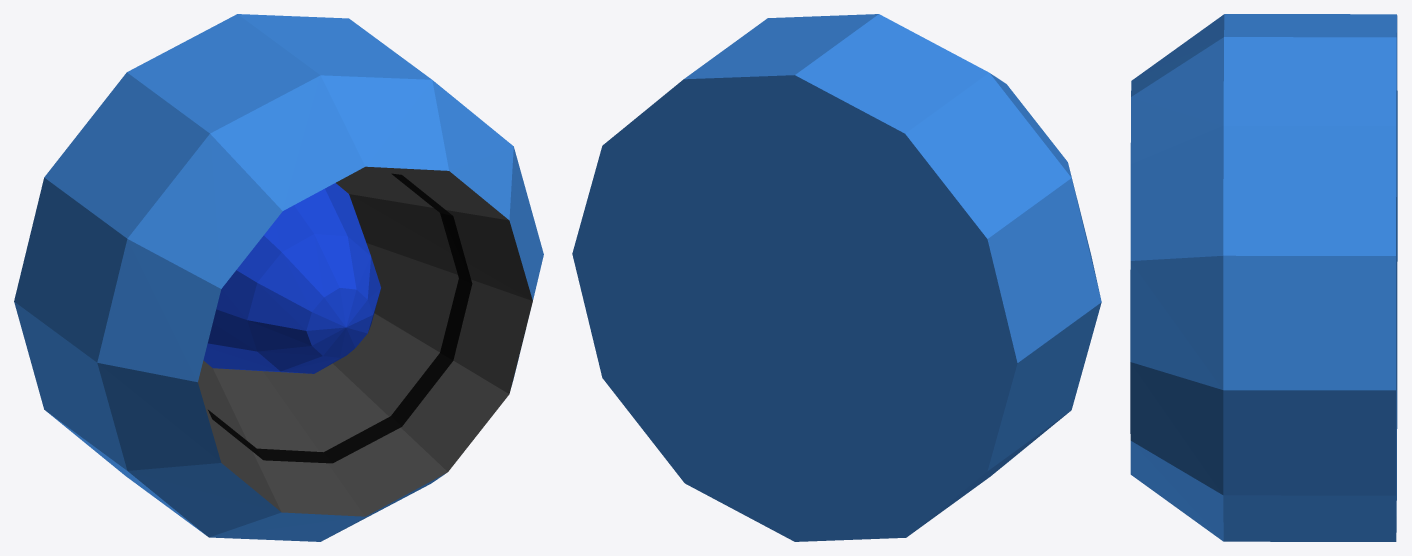
Rendered from engine1.FBX.
The picture shows the model from 3 angles, left to right: view 1: azimuth 30°, elevation 25°; view 2: azimuth 150°, elevation 25°; view 3: azimuth 270°, elevation 25°; orthographic projection. The views are drawn at different scales.
Parts seen in each view (by area): view 1: VIFS001, VIFS002, VIFS003, VIFS004; view 2: VIFS001; view 3: VIFS001.
Boxes of the visible parts, x1,y1,x2,y2 form: VIFS001: (14,14,543,541); VIFS002: (198,166,532,516); VIFS003: (203,183,380,373); VIFS004: (208,173,472,463); VIFS001: (572,14,1101,541); VIFS001: (1130,14,1397,541).
Size of the model in its own units: 0.4004 by 0.4 by 0.2011.
